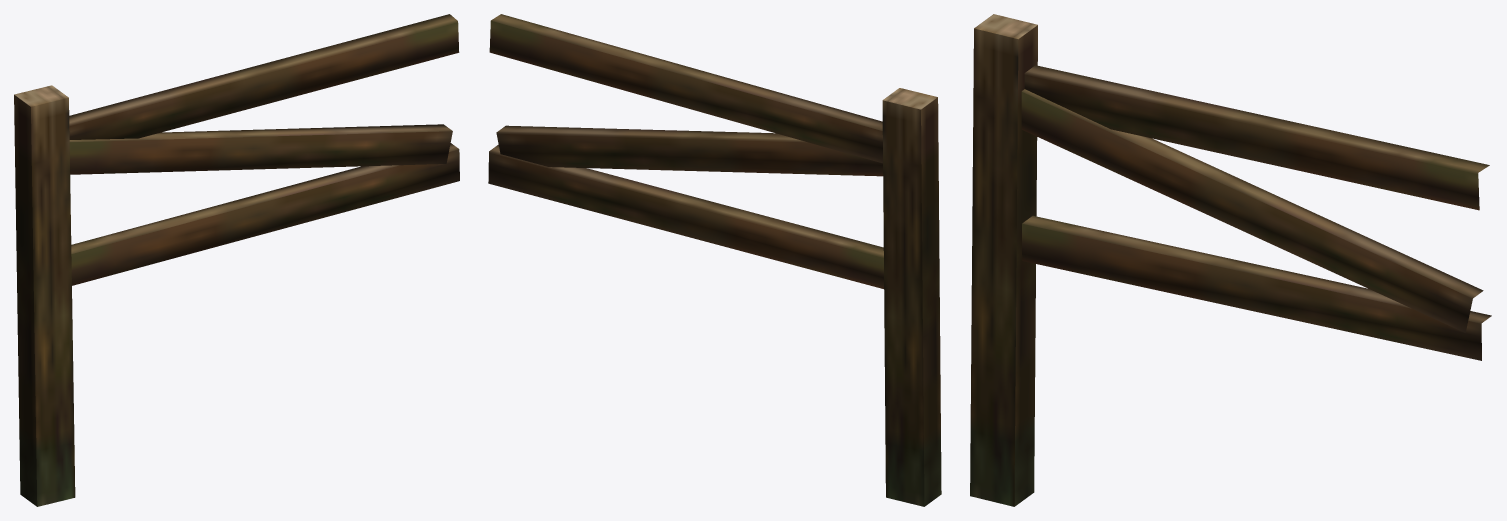
The model's file is general_obj_fence05.glb.
3 renders of one model, left to right at view 1: azimuth 30°, elevation 25°; view 2: azimuth 150°, elevation 25°; view 3: azimuth 330°, elevation 25°, orthographic. The views are drawn at different scales.
Parts seen in each view (by area): view 1: Sphere01; view 2: Sphere01; view 3: Sphere01.
Boxes of the visible parts, x1,y1,x2,y2 form: Sphere01: (14, 14, 459, 506); Sphere01: (488, 14, 941, 506); Sphere01: (970, 14, 1491, 506).
Bounding box in the file's own units: 2.44 × 2.14 × 0.213.
Materials: 1 (1 with a texture image).
